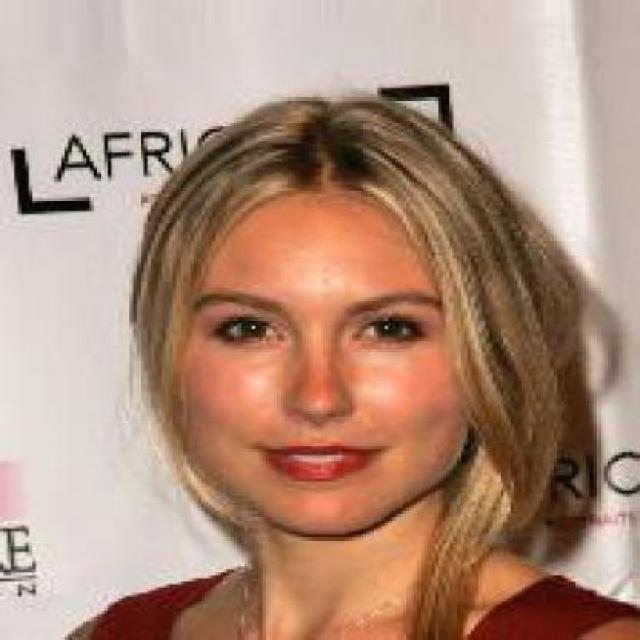closed-mouth: (262, 442, 384, 484)
